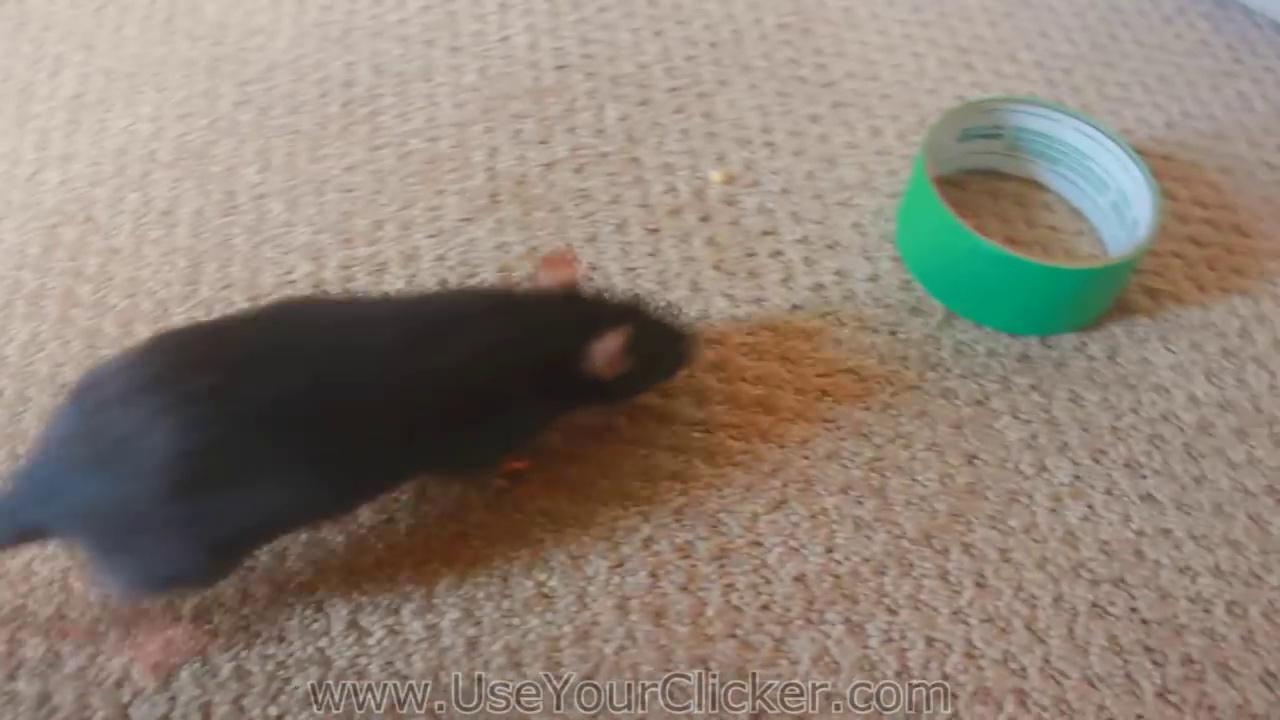rat: (0, 247, 690, 597)
